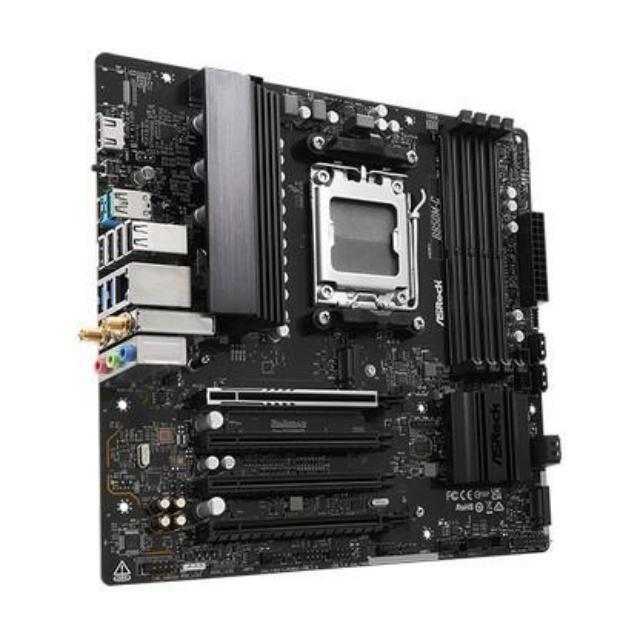Mainboard: (87, 49, 553, 582)
